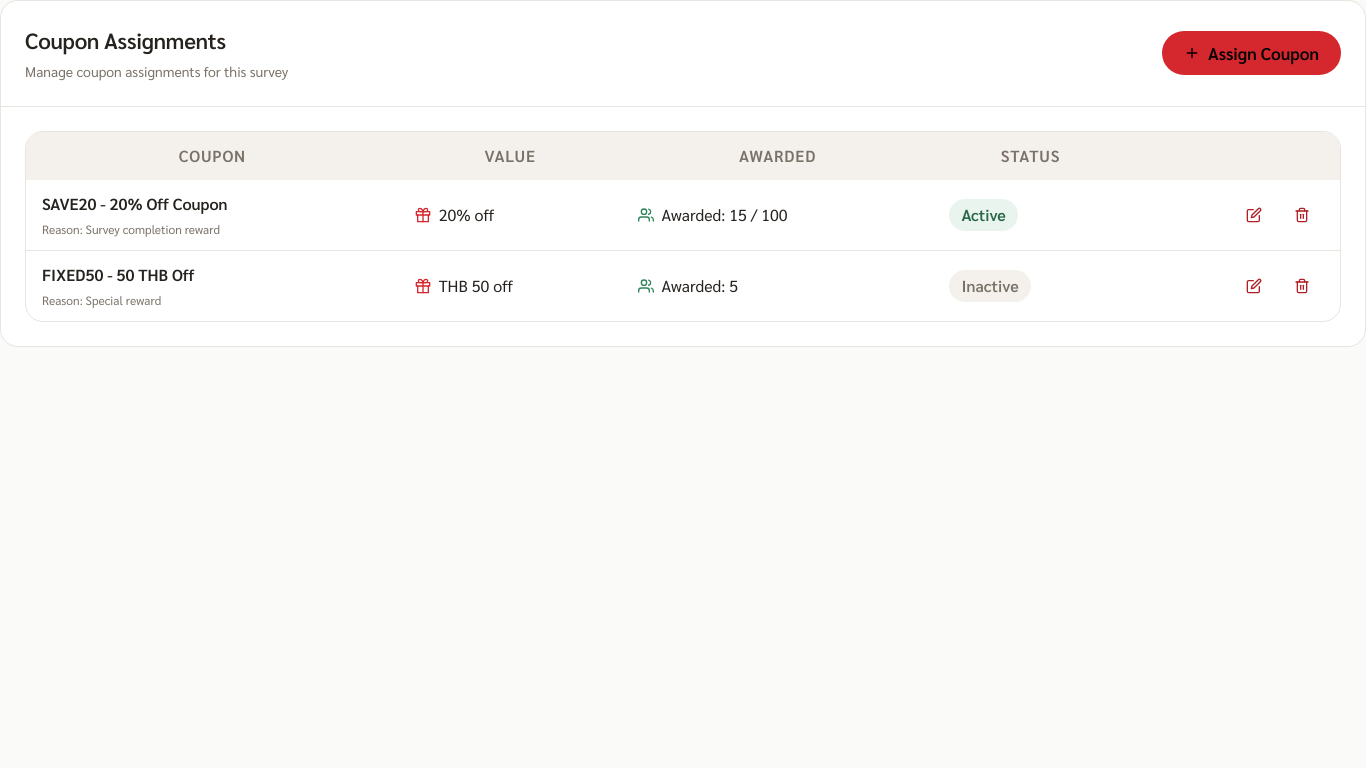
Test: SurveyCouponAssignments › Edit Button Functionality › should open EditAssignmentModal when edit button clicked
Check: the text "SAVE20 - 20% Off Coupon" is shown, box top-left (42, 193), bottom-right (228, 214)
Click the button titled "Edit" in the row of "SAVE20": click(1254, 215) top-left (1232, 193), bottom-right (1276, 237)
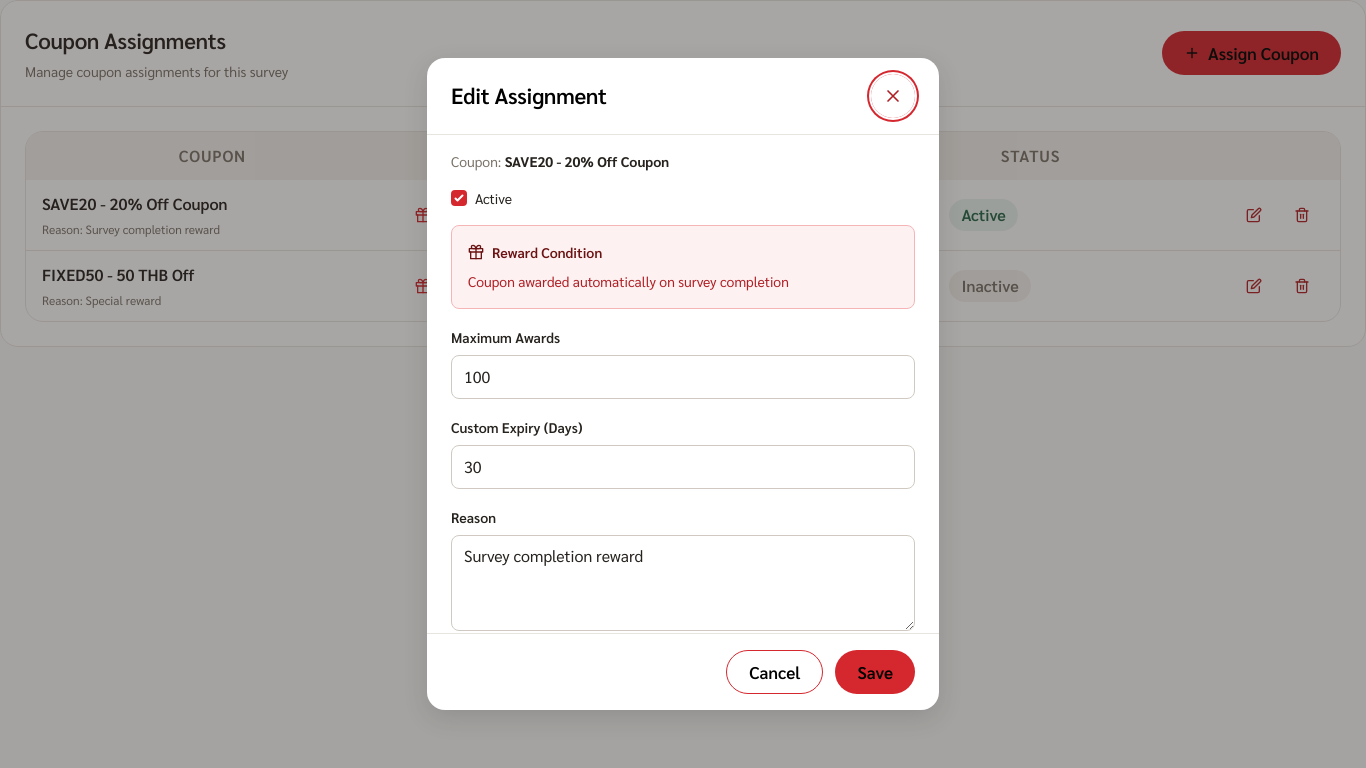
Check: the heading "Edit Assignment" is shown, box top-left (451, 80), bottom-right (607, 112)
Check: the checkbox is shown, box top-left (451, 190), bottom-right (467, 206)
